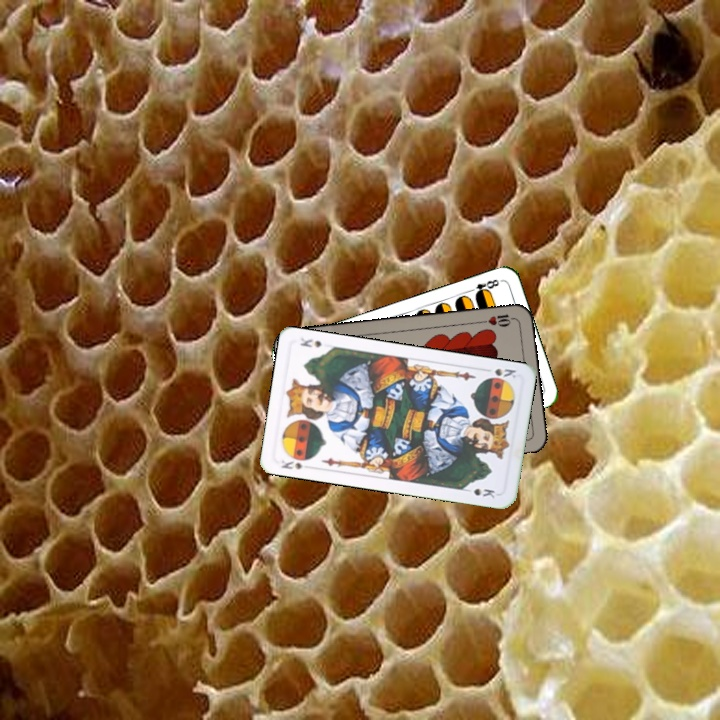E8: (464, 275, 502, 299)
H10: (476, 310, 517, 329)
SK: (277, 452, 314, 472), (491, 364, 519, 383)
